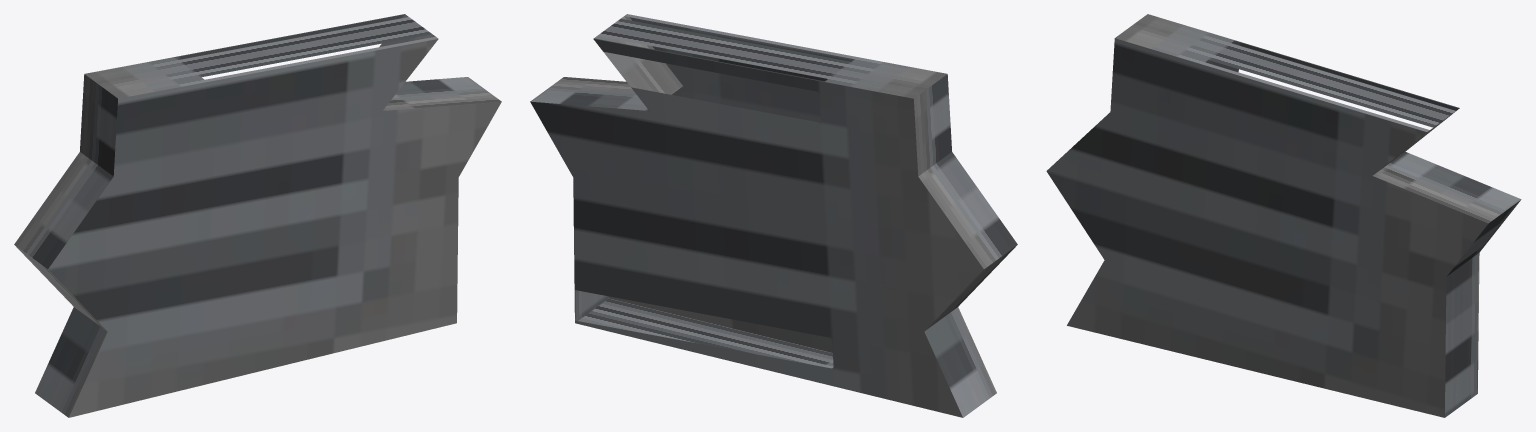
The model's file is MetalChunk4.fbx.
3 renders of one model, left to right at view 1: azimuth 30°, elevation 25°; view 2: azimuth 150°, elevation 25°; view 3: azimuth 330°, elevation 25°, orthographic. The views are drawn at different scales.
Parts seen in each view (by area): view 1: MetalChunk4; view 2: MetalChunk4; view 3: MetalChunk4.
Part boxes in pixels (x1,y1,x2,y2): MetalChunk4: [14, 14, 501, 417]; MetalChunk4: [530, 14, 1017, 417]; MetalChunk4: [1046, 14, 1521, 417].
Size of the model in its own units: 1.55 by 1 by 0.2.
1 material, 1 textured.
